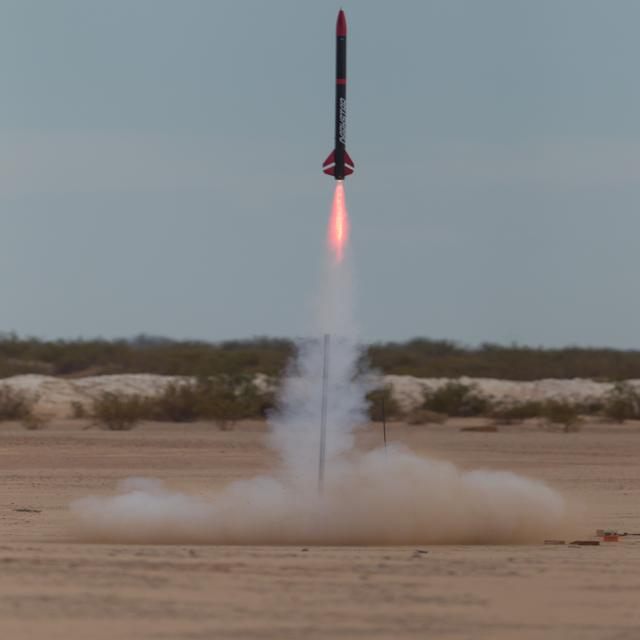Rocket: (322, 5, 356, 183)
